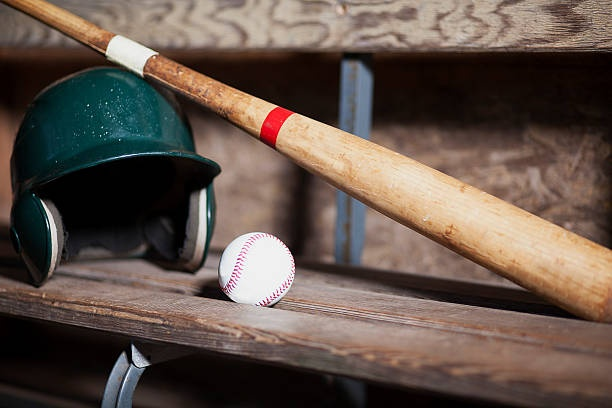bita: (8, 3, 611, 319)
